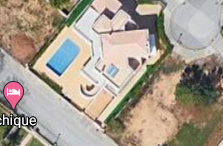pool: (49, 48, 83, 67)
